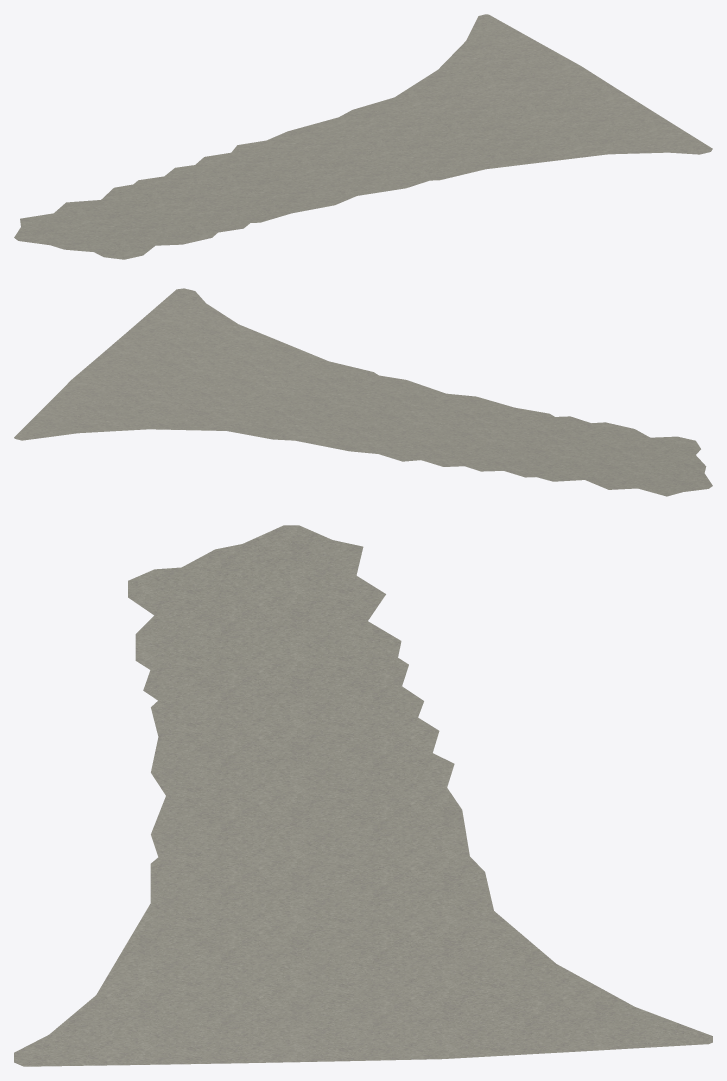
Rendered from path_03.glb.
The picture shows the model from 3 angles, top to bottom: view 1: azimuth 30°, elevation 25°; view 2: azimuth 150°, elevation 25°; view 3: azimuth 270°, elevation 25°; orthographic projection. The views are drawn at different scales.
Parts seen in each view (by area): view 1: path_03.surface; view 2: path_03.surface; view 3: path_03.surface.
Boxes of the visible parts, x1,y1,x2,y2 form: path_03.surface: [14, 14, 712, 259]; path_03.surface: [14, 288, 712, 496]; path_03.surface: [14, 525, 712, 1066].
Size of the model in its own units: 16.58 by 0.1811 by 9.2.
1 material, 1 textured.
